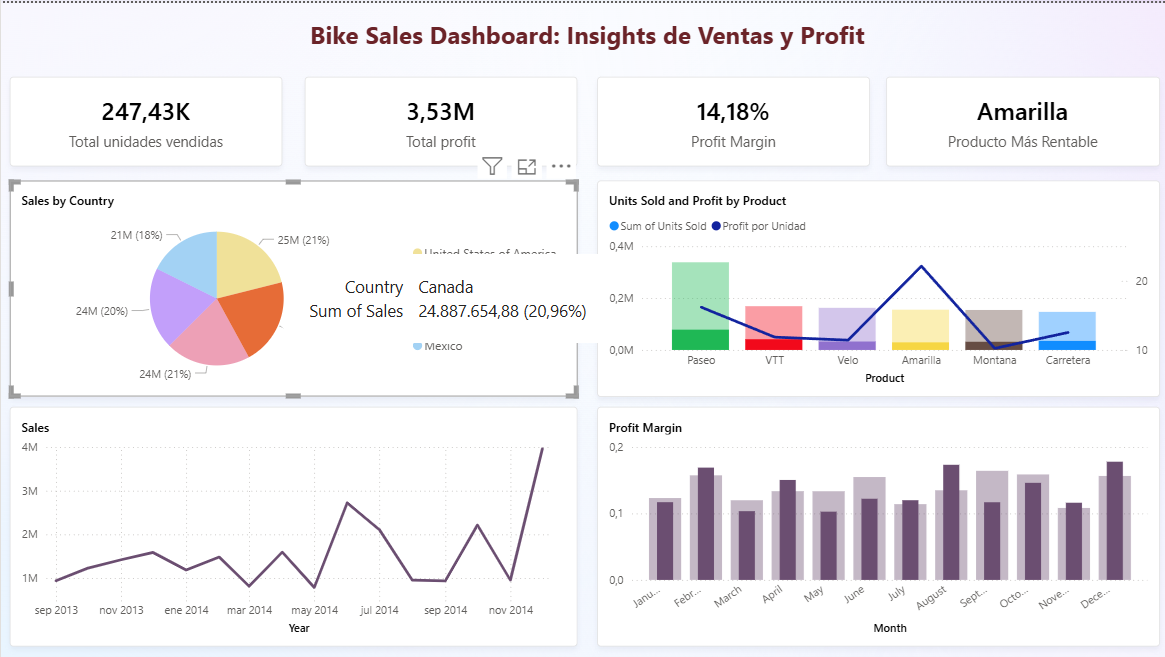

The page's visual inventory and layout, read from the dashboard file:
{"tool":"powerbi","page":{"name":"Page 1","canvas":[1280,720],"ordinal":0},"visuals":[{"type":"card","fields":{"Values":["financials.Total unidades vendidas"]},"box":[9.6,81,299.1,98.8],"z":0},{"type":"card","fields":{"Values":["financials.Total profit"]},"box":[333.4,81,299.1,98.8],"z":1000},{"type":"card","fields":{"Values":["financials.Profit Margin"]},"box":[654.5,81,299.1,98.8],"z":2000},{"type":"card","fields":{"Values":["financials.Producto Más Rentable"]},"box":[971.5,81,300.5,98.8],"z":3000},{"type":"pieChart","title":"Sales by Country","fields":{"Category":["financials.Country"],"Y":["Sum(financials.Sales)"]},"box":[9.6,194.9,623,237.4],"z":4000},{"type":"lineChart","title":"Sales","fields":{"Y":["financials.Ventas diarias"],"Category":["financials.Date.Variation.Date Hierarchy.Year","financials.Date.Variation.Date Hierarchy.Quarter","financials.Date.Variation.Date Hierarchy.Month"]},"box":[9.6,443.2,623,263.5],"z":5000},{"type":"lineClusteredColumnComboChart","title":"Units Sold and Profit by Product","fields":{"Category":["financials.Product"],"Y":["Sum(financials.Units Sold)"],"Y2":["financials.Profit por Unidad"]},"box":[654.5,194.9,617.5,237.4],"z":6000},{"type":"columnChart","title":"Profit Margin","fields":{"Category":["financials.Date.Variation.Date Hierarchy.Month"],"Y":["financials.Profit Margin"]},"box":[654.5,443.2,617.5,263.5],"z":7000},{"type":"textbox","box":[17.8,11,1251.5,46.7],"z":8000}]}

Visuals, with their boxes in screenshot pixels (x1, y1, x2, y2), scaled from the page's 1280x720 canvas onto the 1165x657 screenshot:
card - financials.Total unidades vendidas: crop(9, 74, 281, 164)
card - financials.Total profit: crop(303, 74, 576, 164)
card - financials.Profit Margin: crop(596, 74, 868, 164)
card - financials.Producto Más Rentable: crop(884, 74, 1158, 164)
"Sales by Country" pieChart: crop(9, 178, 576, 394)
"Sales" lineChart: crop(9, 404, 576, 645)
"Units Sold and Profit by Product" lineClusteredColumnComboChart: crop(596, 178, 1158, 394)
"Profit Margin" columnChart: crop(596, 404, 1158, 645)
textbox: crop(16, 10, 1155, 53)
